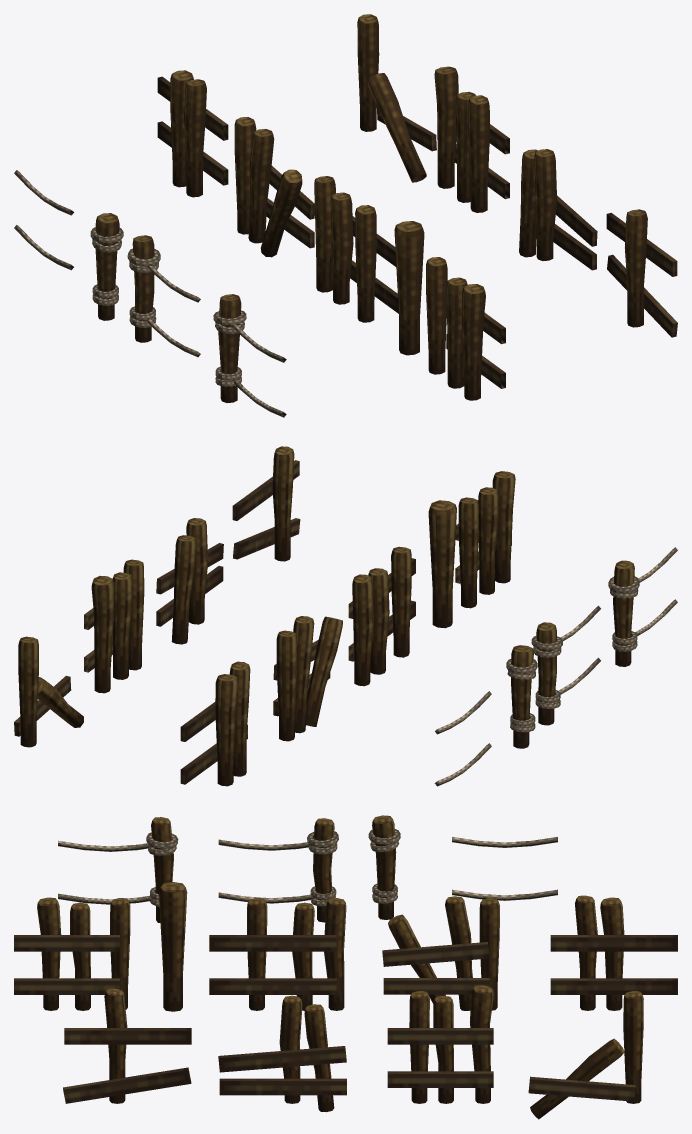
Rendered from EnvMdrMD_Wilderness_A_Fence_B_End_A.FBX.
3 renders of one model, top to bottom at view 1: azimuth 30°, elevation 25°; view 2: azimuth 150°, elevation 25°; view 3: azimuth 270°, elevation 25°, orthographic. The views are drawn at different scales.
Parts seen in each view (by area): view 1: EnvMdrMD_Wilderness_A_Fence_B_End_A, EnvMdrMD_Wilderness_A_Fence_B_Loop_A, EnvMdrMD_Wilderness_A_Fence_B_Loop_B, EnvMdrMD_Wilderness_A_Fence_B_Loop_A_Broken_A, EnvMdrMD_Wilderness_A_Fence_B_End_A_Broken_A, EnvMdrMD_Wilderness_A_Fence_B_Start_A, EnvMdrMD_Wilderness_A_Fence_B_Loop_A_Broken_B, EnvMdrMD_Wilderness_A_Fence_B_Start_A_Broken_A, EnvMdrMD_Wilderness_A_Fence_B_Post_A, EnvMdrMD_Wilderness_A_Fence_C_Loop_A, EnvMdrMD_Wilderness_A_Fence_C_End_A, EnvMdrMD_Wilderness_A_Fence_C_Post_A (+1 smaller); view 2: EnvMdrMD_Wilderness_A_Fence_B_End_A, EnvMdrMD_Wilderness_A_Fence_B_Loop_A, EnvMdrMD_Wilderness_A_Fence_B_Loop_B, EnvMdrMD_Wilderness_A_Fence_B_Loop_A_Broken_A, EnvMdrMD_Wilderness_A_Fence_B_Start_A, EnvMdrMD_Wilderness_A_Fence_B_End_A_Broken_A, EnvMdrMD_Wilderness_A_Fence_B_Start_A_Broken_A, EnvMdrMD_Wilderness_A_Fence_B_Loop_A_Broken_B, EnvMdrMD_Wilderness_A_Fence_B_Post_A, EnvMdrMD_Wilderness_A_Fence_C_Loop_A, EnvMdrMD_Wilderness_A_Fence_C_End_A, EnvMdrMD_Wilderness_A_Fence_C_Post_A (+1 smaller); view 3: EnvMdrMD_Wilderness_A_Fence_B_End_A, EnvMdrMD_Wilderness_A_Fence_B_Loop_B, EnvMdrMD_Wilderness_A_Fence_B_Loop_A, EnvMdrMD_Wilderness_A_Fence_B_Loop_A_Broken_A, EnvMdrMD_Wilderness_A_Fence_B_Start_A, EnvMdrMD_Wilderness_A_Fence_B_End_A_Broken_A, EnvMdrMD_Wilderness_A_Fence_B_Start_A_Broken_A, EnvMdrMD_Wilderness_A_Fence_B_Loop_A_Broken_B, EnvMdrMD_Wilderness_A_Fence_C_End_A, EnvMdrMD_Wilderness_A_Fence_B_Post_A, EnvMdrMD_Wilderness_A_Fence_C_Loop_A, EnvMdrMD_Wilderness_A_Fence_C_Post_A (+1 smaller).
Part boxes in pixels (x1,y1,x2,y2): EnvMdrMD_Wilderness_A_Fence_B_End_A: [314, 176, 398, 322]; EnvMdrMD_Wilderness_A_Fence_B_Loop_A: [426, 257, 505, 400]; EnvMdrMD_Wilderness_A_Fence_B_Loop_B: [434, 66, 509, 212]; EnvMdrMD_Wilderness_A_Fence_B_Loop_A_Broken_A: [234, 117, 314, 257]; EnvMdrMD_Wilderness_A_Fence_B_End_A_Broken_A: [519, 149, 597, 270]; EnvMdrMD_Wilderness_A_Fence_B_Start_A: [157, 70, 228, 197]; EnvMdrMD_Wilderness_A_Fence_B_Loop_A_Broken_B: [357, 14, 436, 182]; EnvMdrMD_Wilderness_A_Fence_B_Start_A_Broken_A: [606, 209, 677, 337]; EnvMdrMD_Wilderness_A_Fence_B_Post_A: [394, 221, 424, 355]; EnvMdrMD_Wilderness_A_Fence_C_Loop_A: [213, 294, 286, 417]; EnvMdrMD_Wilderness_A_Fence_C_End_A: [127, 235, 200, 357]; EnvMdrMD_Wilderness_A_Fence_C_Post_A: [90, 213, 123, 320]; EnvMdrMD_Wilderness_A_Fence_B_End_A: [348, 546, 415, 686]; EnvMdrMD_Wilderness_A_Fence_B_Loop_A: [455, 471, 515, 608]; EnvMdrMD_Wilderness_A_Fence_B_Loop_B: [84, 559, 144, 693]; EnvMdrMD_Wilderness_A_Fence_B_Loop_A_Broken_A: [273, 616, 342, 741]; EnvMdrMD_Wilderness_A_Fence_B_Start_A: [180, 661, 250, 786]; EnvMdrMD_Wilderness_A_Fence_B_End_A_Broken_A: [156, 518, 223, 644]; EnvMdrMD_Wilderness_A_Fence_B_Start_A_Broken_A: [232, 446, 300, 561]; EnvMdrMD_Wilderness_A_Fence_B_Loop_A_Broken_B: [14, 636, 83, 747]; EnvMdrMD_Wilderness_A_Fence_B_Post_A: [428, 500, 456, 628]; EnvMdrMD_Wilderness_A_Fence_C_Loop_A: [608, 547, 677, 666]; EnvMdrMD_Wilderness_A_Fence_C_End_A: [531, 605, 600, 725]; EnvMdrMD_Wilderness_A_Fence_C_Post_A: [506, 645, 537, 748]; EnvMdrMD_Wilderness_A_Fence_B_End_A: [209, 898, 346, 1010]; EnvMdrMD_Wilderness_A_Fence_B_Loop_B: [387, 985, 493, 1103]; EnvMdrMD_Wilderness_A_Fence_B_Loop_A: [14, 897, 130, 1010]; EnvMdrMD_Wilderness_A_Fence_B_Loop_A_Broken_A: [382, 896, 499, 1010]; EnvMdrMD_Wilderness_A_Fence_B_Start_A: [550, 895, 677, 1010]; EnvMdrMD_Wilderness_A_Fence_B_End_A_Broken_A: [218, 995, 346, 1112]; EnvMdrMD_Wilderness_A_Fence_B_Start_A_Broken_A: [63, 988, 191, 1103]; EnvMdrMD_Wilderness_A_Fence_B_Loop_A_Broken_B: [528, 991, 643, 1119]; EnvMdrMD_Wilderness_A_Fence_C_End_A: [218, 818, 338, 922]; EnvMdrMD_Wilderness_A_Fence_B_Post_A: [159, 882, 187, 1011]; EnvMdrMD_Wilderness_A_Fence_C_Loop_A: [58, 817, 178, 923]; EnvMdrMD_Wilderness_A_Fence_C_Post_A: [368, 815, 400, 919].
Bounding box in the file's own units: 440 × 144 × 626.
Materials: 1 (1 with a texture image).
